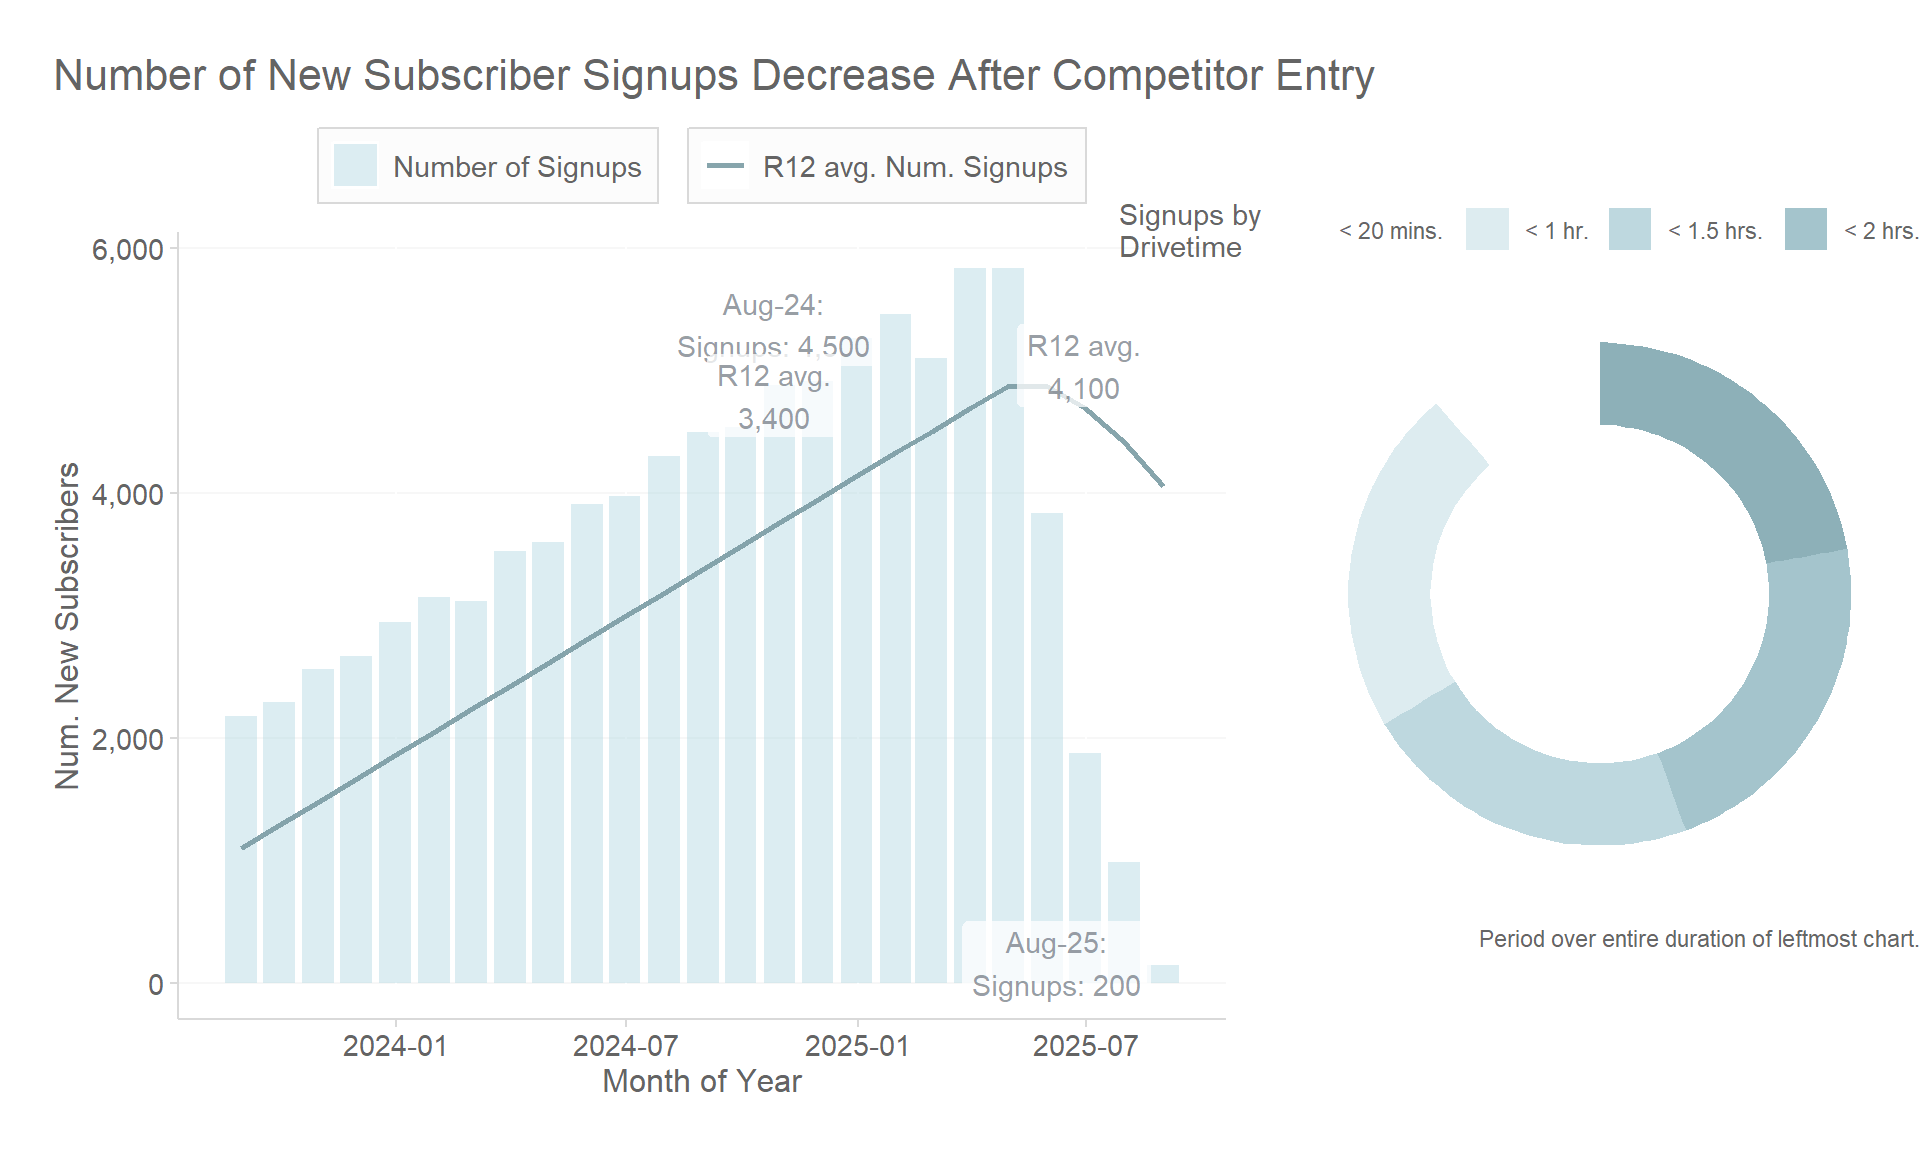

Layout of this report page (visuals, bound fields, positions):
{"tool":"tableau","page":{"name":"Dashboard TS","canvas":[1016,964],"ordinal":1},"visuals":[{"type":"blank","box":[8,8,162.6,38.7]},{"type":"worksheet","title":"Time Series","mark":"Bar","rows":["calculation","value","value"],"cols":["MONTH_END"],"box":[170.6,8,837.4,948]},{"type":"filter","title":"Time Series","param":"[federated.1atp5sv15v3jza1d6jdue160i6nr].[none:metric:nk]","box":[8,46.7,162.6,274.3]},{"type":"filter","title":"Time Series","param":"[federated.1atp5sv15v3jza1d6jdue160i6nr].[none:SOURCE_PROP_GROUP:nk]","box":[8,321,162.6,105]},{"type":"legend","title":"Time Series","param":"[federated.1atp5sv15v3jza1d6jdue160i6nr].[usr:Calculation_1957940001497505793:nk","box":[8,426,162.6,530]}]}

Visuals, with their boxes on the page's 1016x964 design canvas (x1, y1, x2, y2). These are canvas units, not pixel positions in the 1920x1152 screenshot, which may show the page scaled, cropped or inside an application window:
blank: left=8, top=8, right=171, bottom=47
"Time Series" worksheet (Bar marks): left=171, top=8, right=1008, bottom=956
"Time Series" filter: left=8, top=47, right=171, bottom=321
"Time Series" filter: left=8, top=321, right=171, bottom=426
"Time Series" legend: left=8, top=426, right=171, bottom=956
